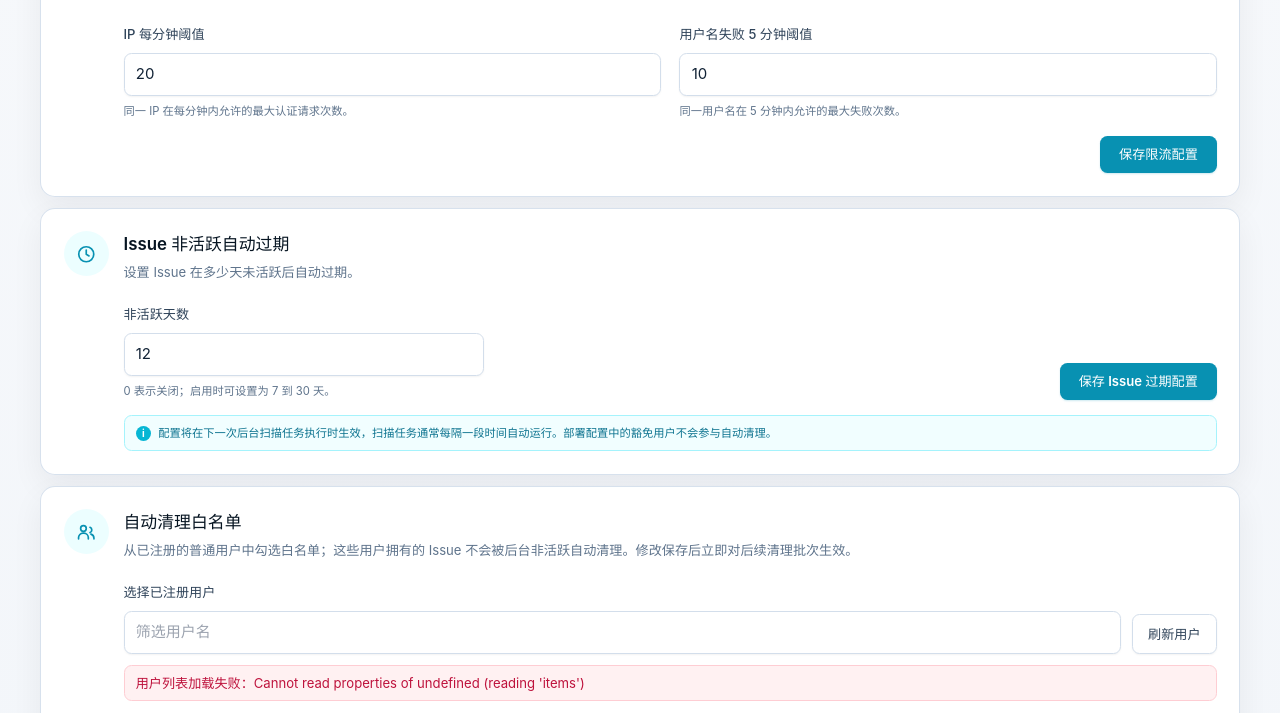
Scenario: reloads the persisted issue inactivity value after a save failure
(page scrolled)
Replace the text in the number field labelled "非活跃天数" with "20" at [304, 354], box [124,333,484,376]
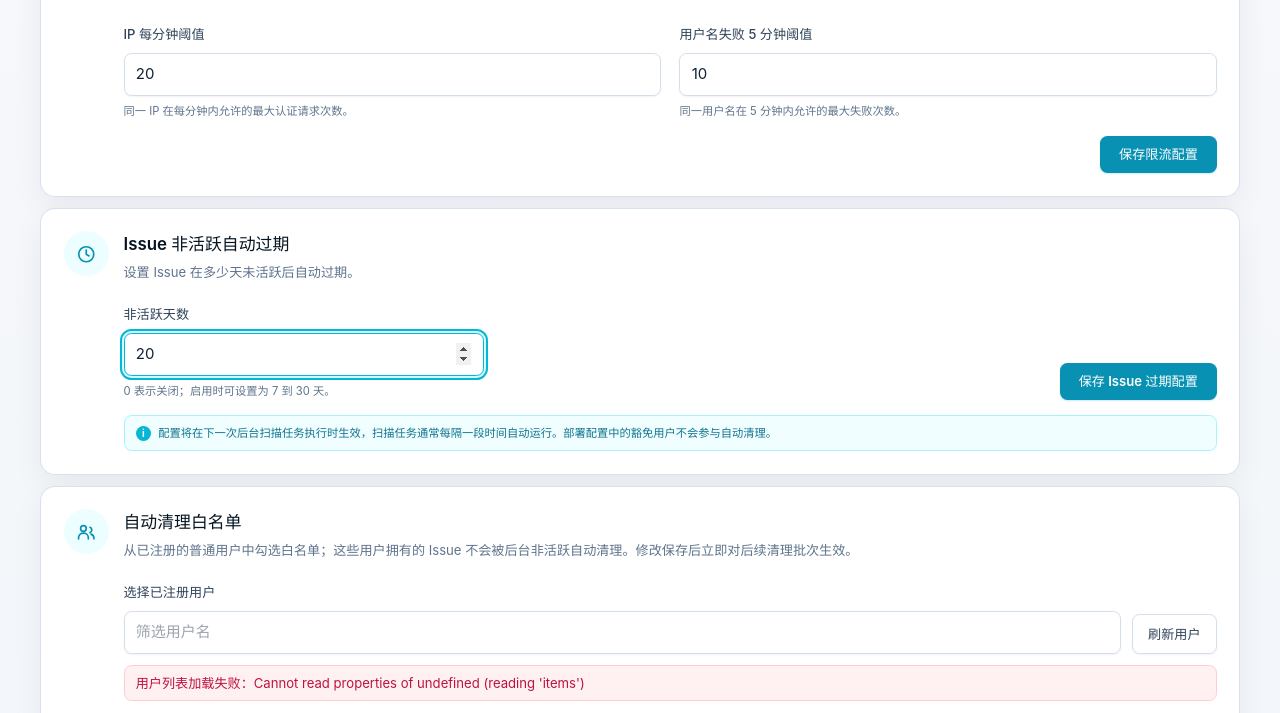
Click the button "保存 Issue 过期配置".
click(1138, 382)  # box [1060,363,1216,400]
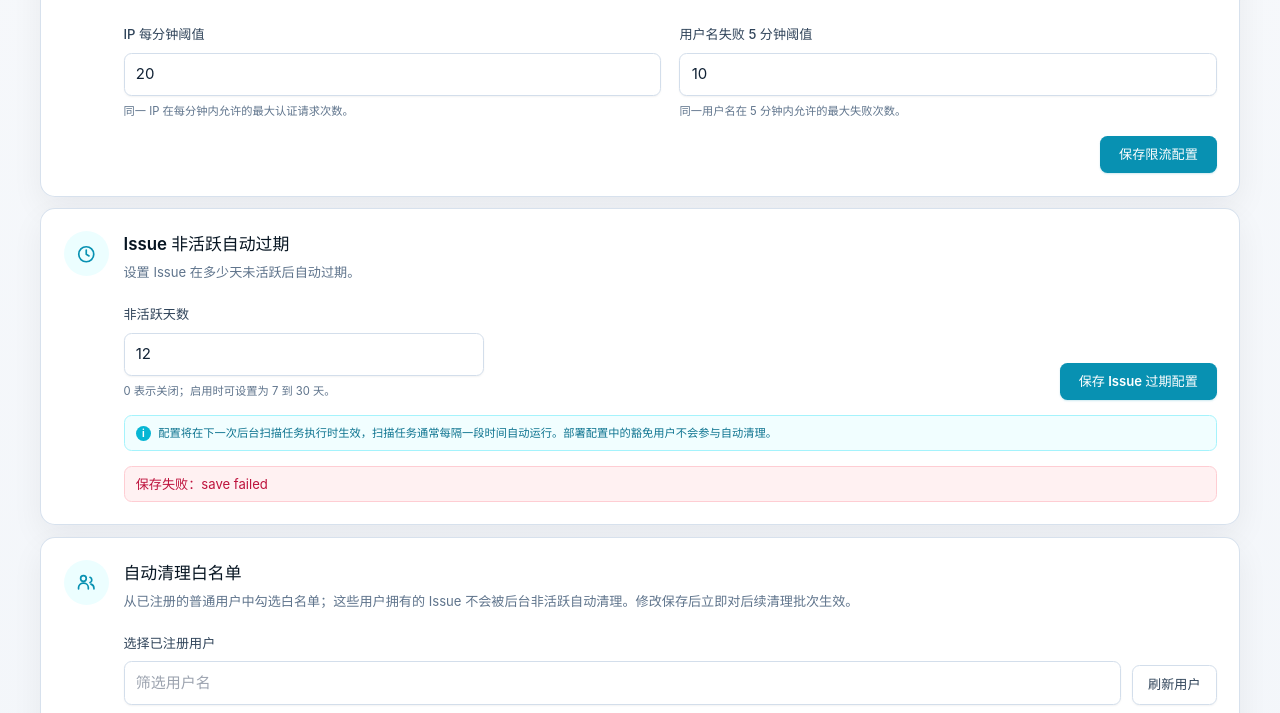
Check: the text "保存失败：save failed" is shown, box [124,466,1216,502]
Check: the number field labelled "非活跃天数" holds "12", box [124,333,484,376]
